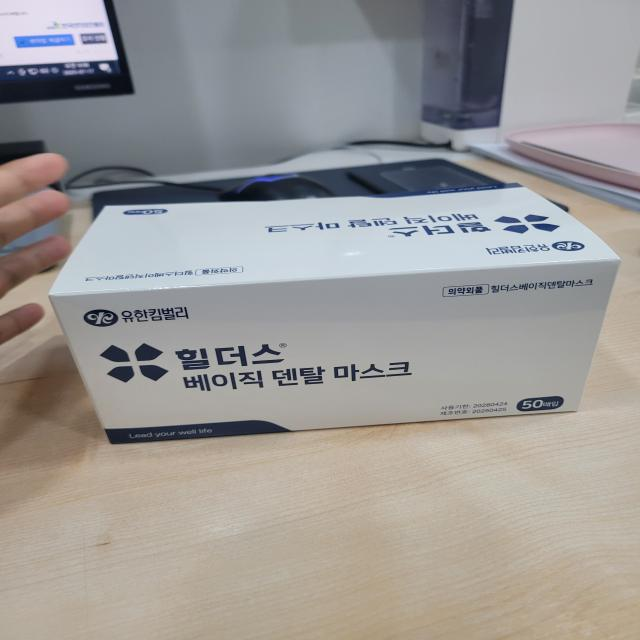mask: (37, 186, 640, 462)
